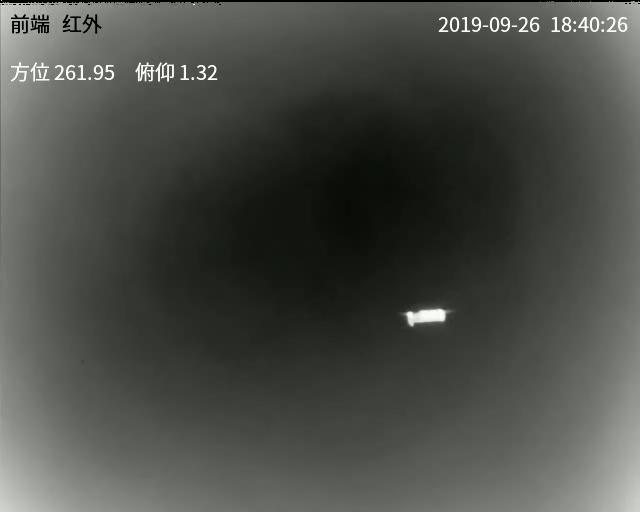uav: (389, 299, 451, 330)
